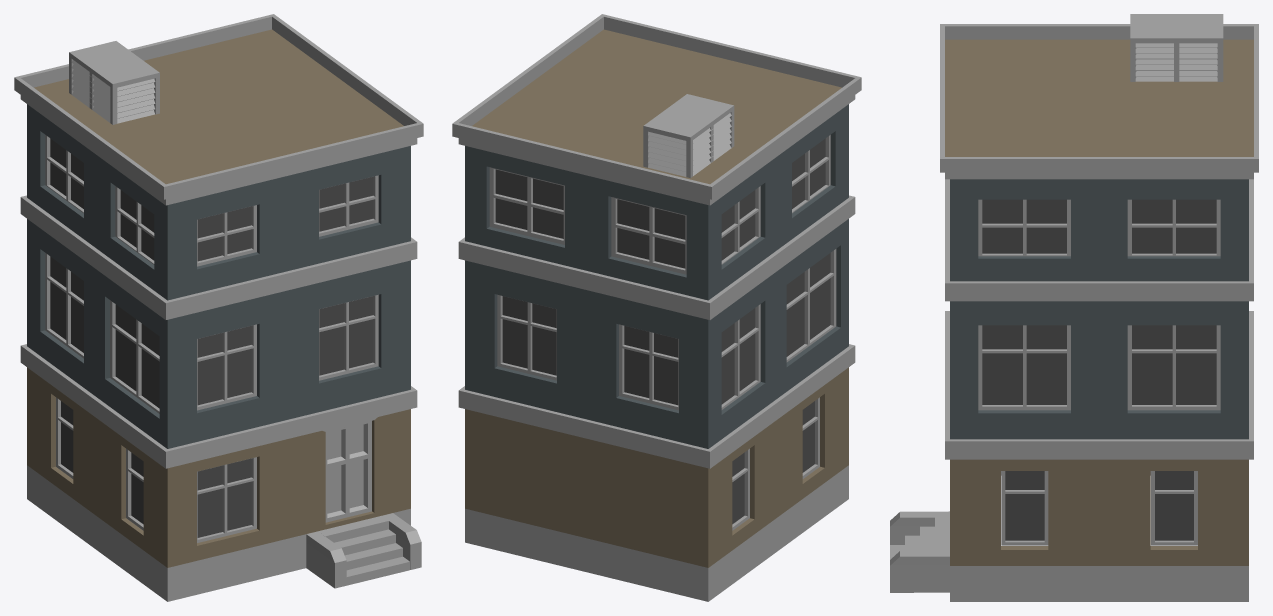
The model's file is Buiding_3.fbx.
The picture shows the model from 3 angles, left to right: view 1: azimuth 30°, elevation 25°; view 2: azimuth 150°, elevation 25°; view 3: azimuth 270°, elevation 25°; orthographic projection. The views are drawn at different scales.
Parts seen in each view (by area): view 1: Building_2; view 2: Building_2; view 3: Building_2.
Boxes of the visible parts, x1=… form: Building_2: x1=14, y1=14, x2=423, y2=601; Building_2: x1=452, y1=14, x2=861, y2=601; Building_2: x1=890, y1=14, x2=1258, y2=601.
Size of the model in its own units: 3200 by 5281 by 3700.
